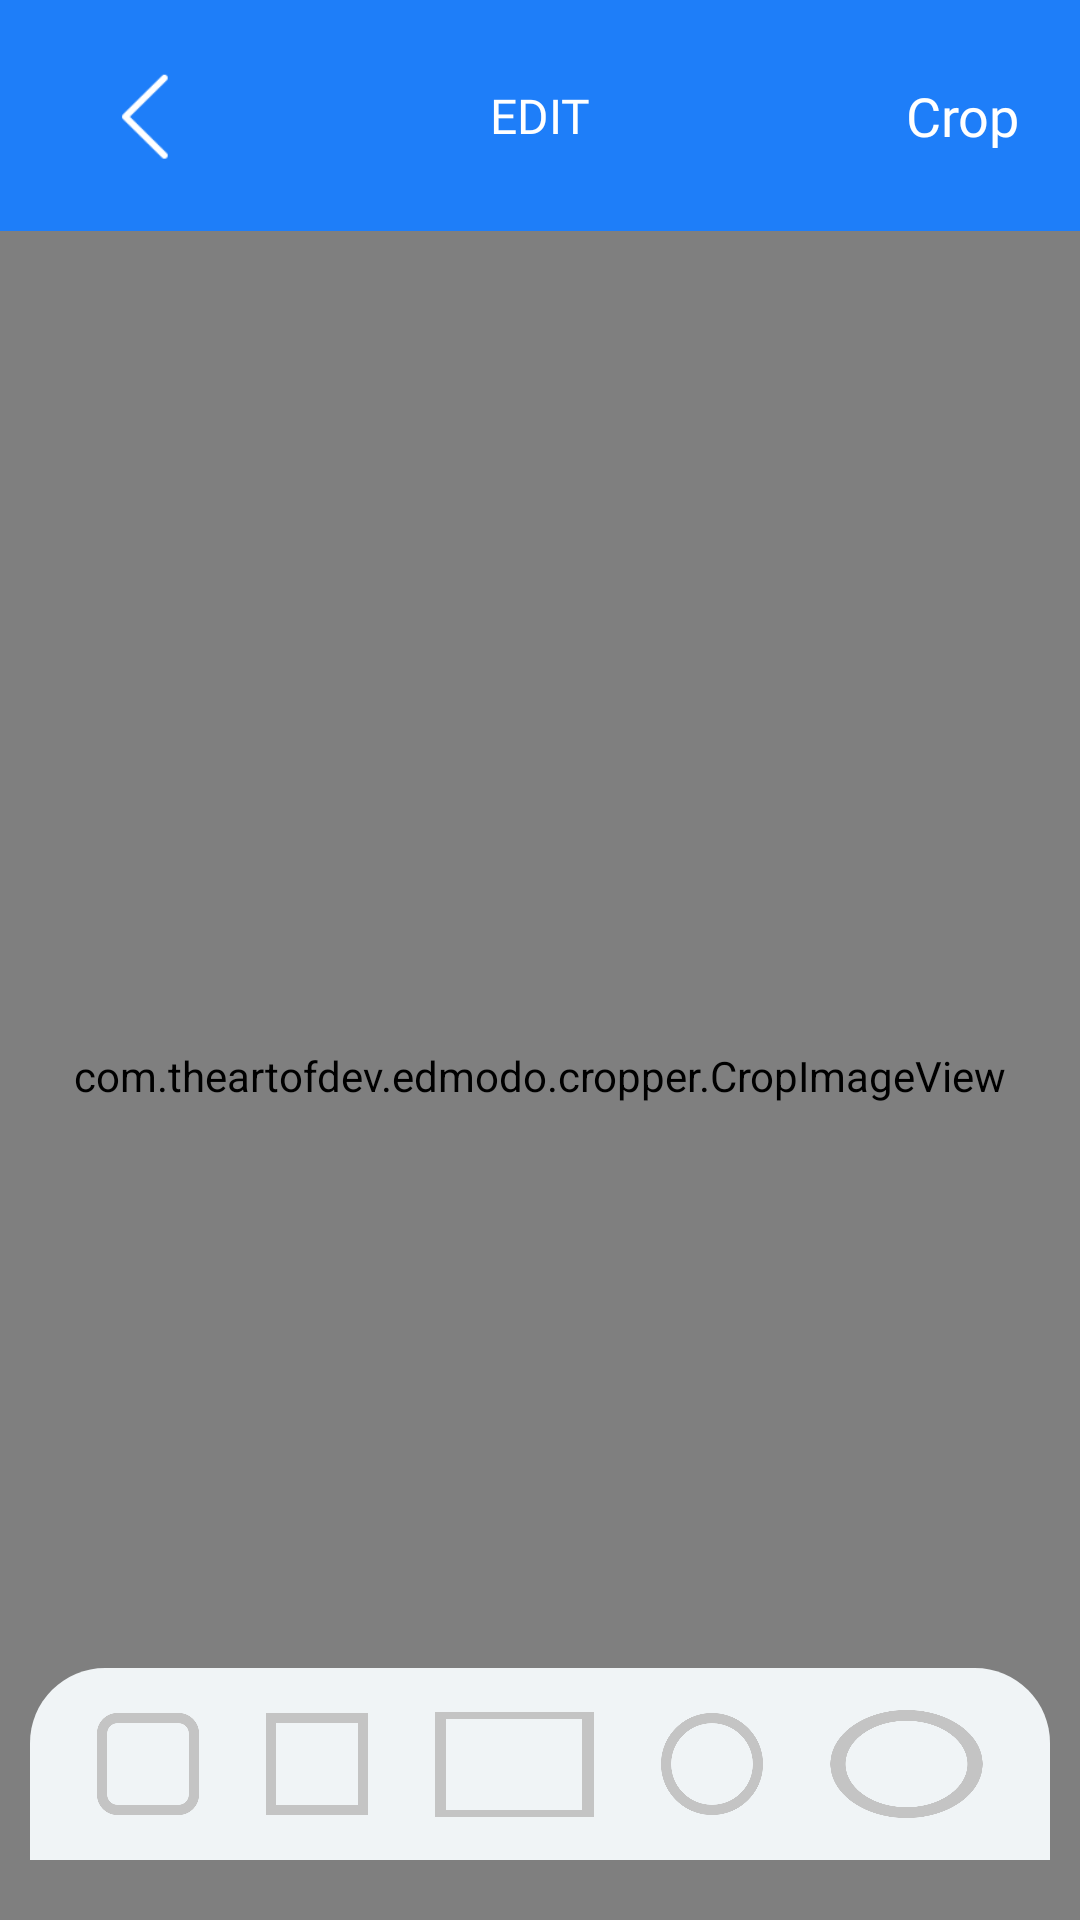

Icons on this 1080w x 1920h Android screen, each with its box as rect(x1, y1, x2, y2):
back: rect(122, 74, 168, 159)
circle: rect(661, 1713, 763, 1815)
oval: rect(830, 1710, 983, 1818)
rect: rect(435, 1712, 594, 1817), rect(97, 1713, 199, 1815)
square: rect(266, 1713, 368, 1815)
